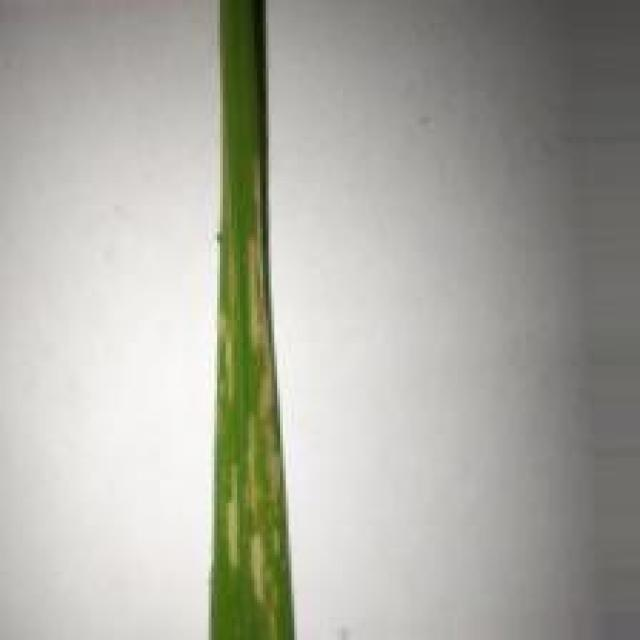Rice_Hispa: (250, 151, 281, 512), (220, 200, 236, 382), (244, 416, 258, 523), (225, 478, 241, 570)
